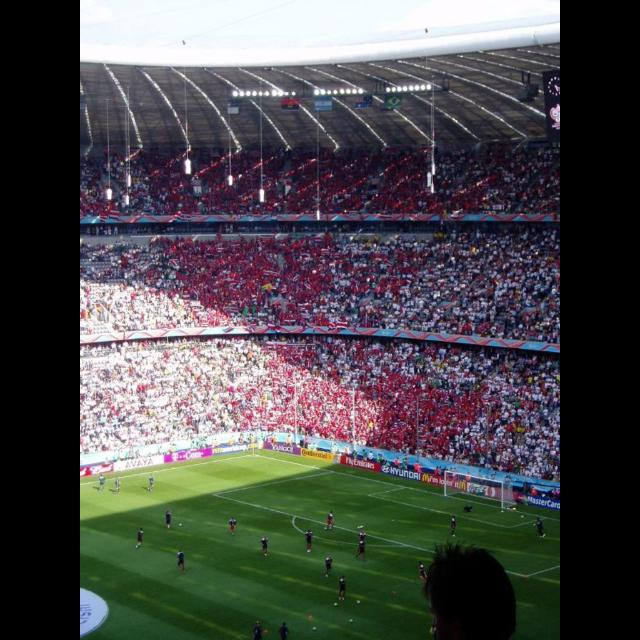Football: (356, 600, 360, 604)
